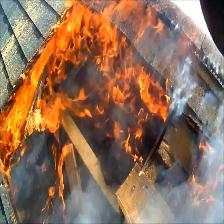fire: (7, 78, 58, 136), (110, 69, 169, 115), (89, 10, 123, 68), (48, 21, 80, 70)
